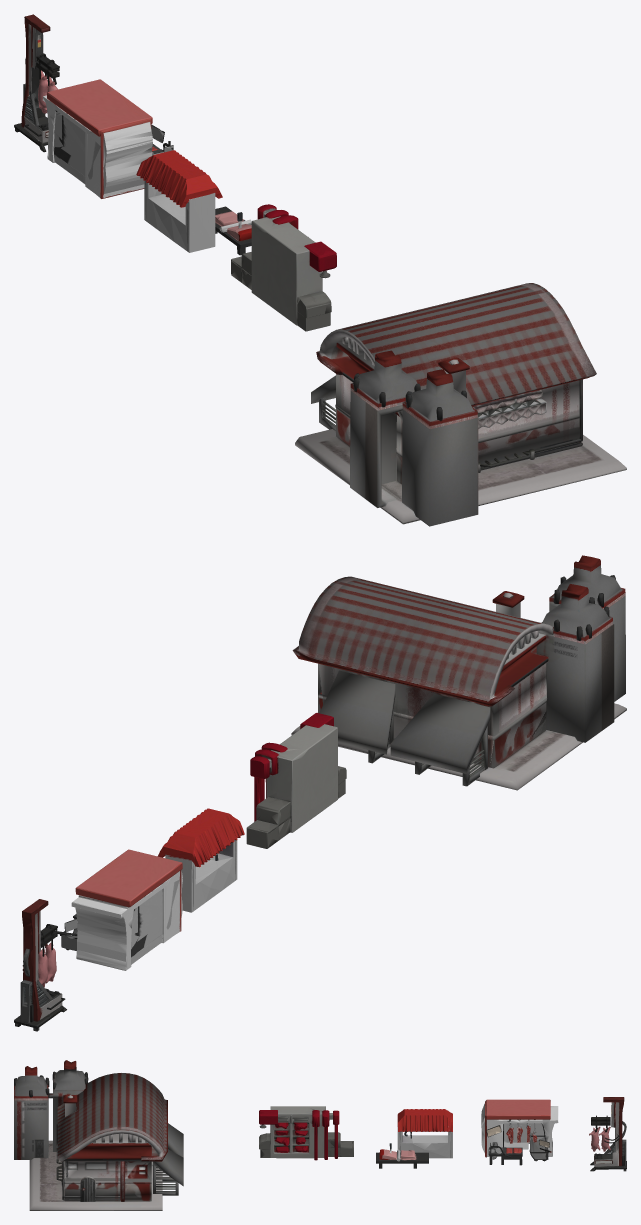
3 views of the same model, one above another, from view 1: azimuth 30°, elevation 25°; view 2: azimuth 150°, elevation 25°; view 3: azimuth 270°, elevation 25° (orthographic). The views are drawn at different scales.
Visible parts, largest first — view 1: 大基地, 晾四块肉, 也许是柜子, 桌子上有俩块肉, 吊俩头猪; view 2: 大基地, 晾四块肉, 也许是柜子, 桌子上有俩块肉, 吊俩头猪; view 3: 大基地, 晾四块肉, 也许是柜子, 桌子上有俩块肉, 吊俩头猪.
Boxes of the visible parts, left/top/right/bottom form: 大基地: left=295, top=283, right=626, bottom=526; 晾四块肉: left=43, top=79, right=173, bottom=198; 也许是柜子: left=231, top=204, right=336, bottom=331; 桌子上有俩块肉: left=136, top=150, right=251, bottom=255; 吊俩头猪: left=14, top=14, right=59, bottom=152; 大基地: left=291, top=555, right=626, bottom=790; 晾四块肉: left=55, top=849, right=182, bottom=970; 也许是柜子: left=246, top=713, right=346, bottom=848; 桌子上有俩块肉: left=157, top=808, right=244, bottom=912; 吊俩头猪: left=14, top=899, right=66, bottom=1031; 大基地: left=14, top=1060, right=183, bottom=1210; 晾四块肉: left=481, top=1099, right=558, bottom=1165; 也许是柜子: left=259, top=1106, right=353, bottom=1160; 桌子上有俩块肉: left=376, top=1109, right=452, bottom=1168; 吊俩头猪: left=589, top=1097, right=626, bottom=1171.
Bounding box in the file's own units: 208 × 122 × 778.
